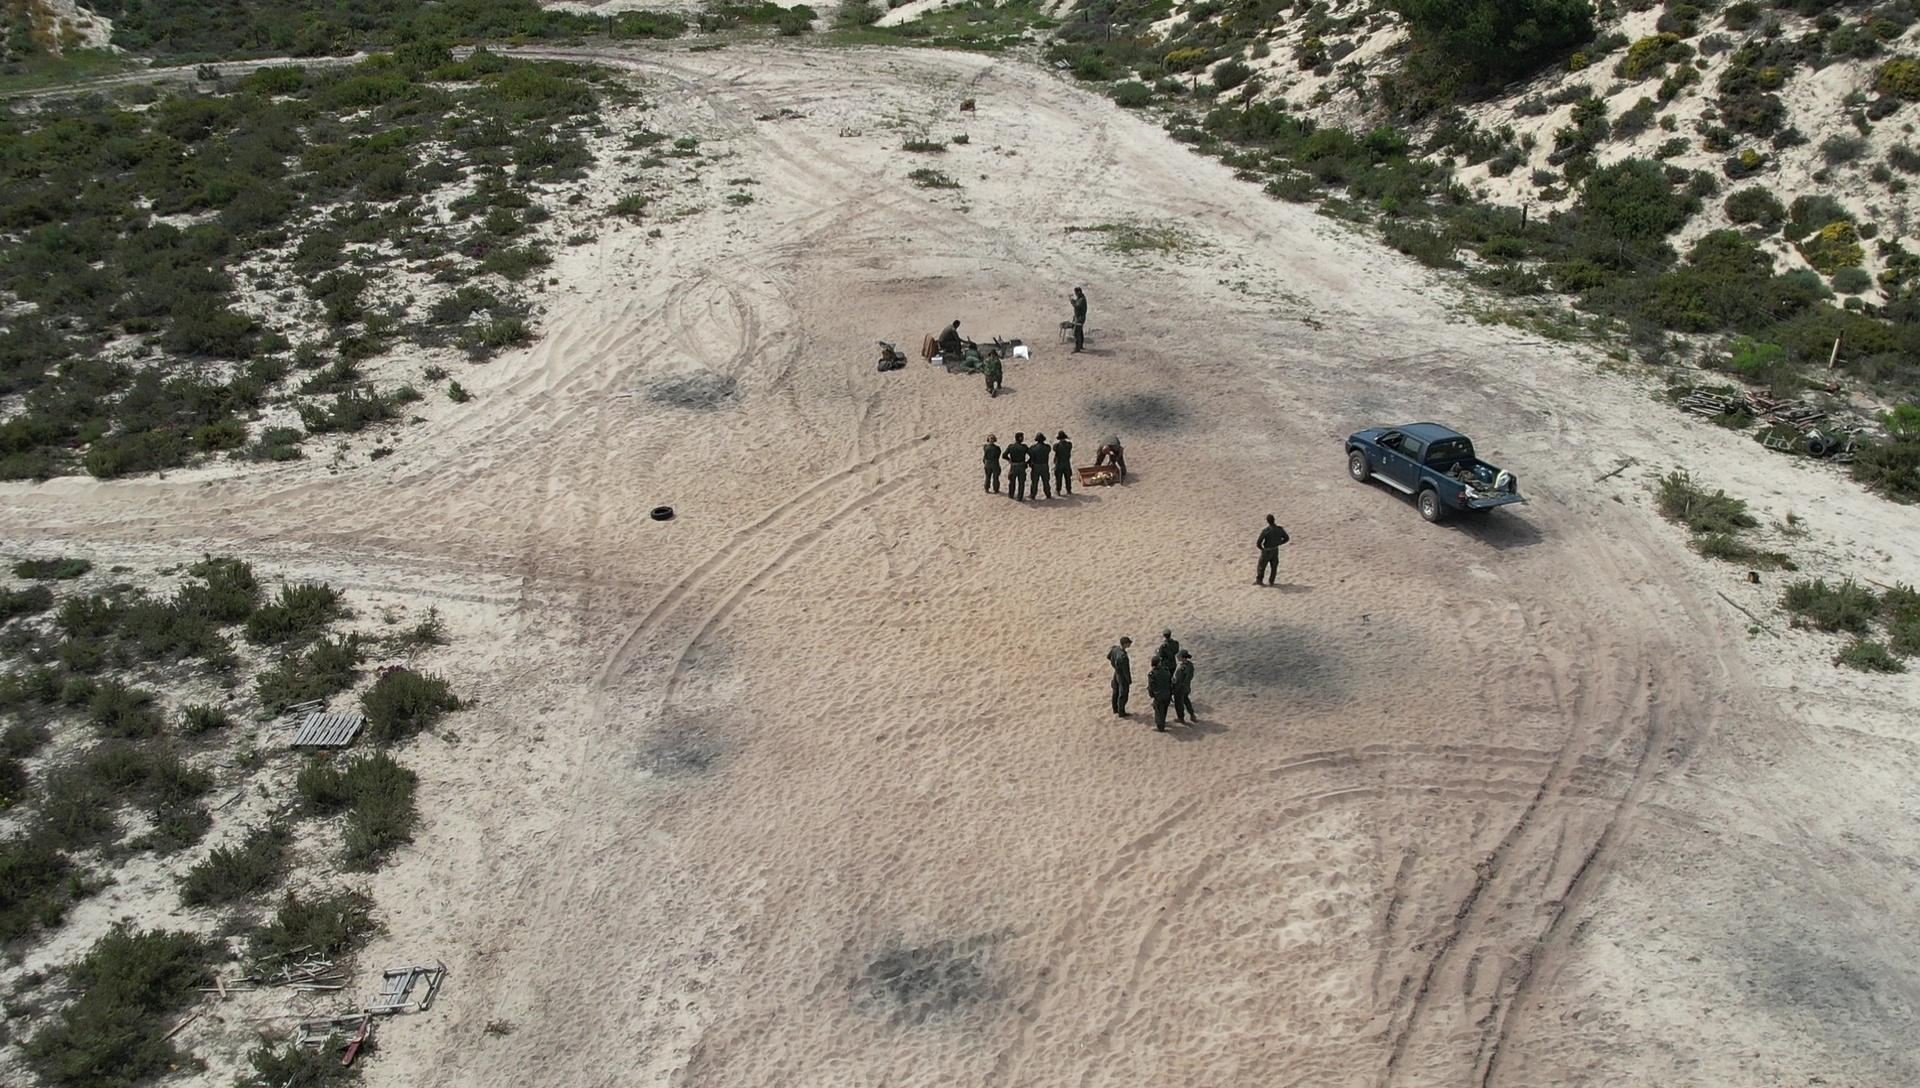Soldier: (1102, 625, 1141, 731), (1085, 431, 1137, 500), (1018, 429, 1056, 513), (1254, 510, 1288, 593), (1153, 634, 1180, 721), (1065, 285, 1096, 360), (1050, 429, 1077, 509), (1009, 430, 1036, 509), (980, 431, 1010, 499), (1174, 644, 1197, 729), (935, 317, 971, 371), (977, 343, 1007, 394)
